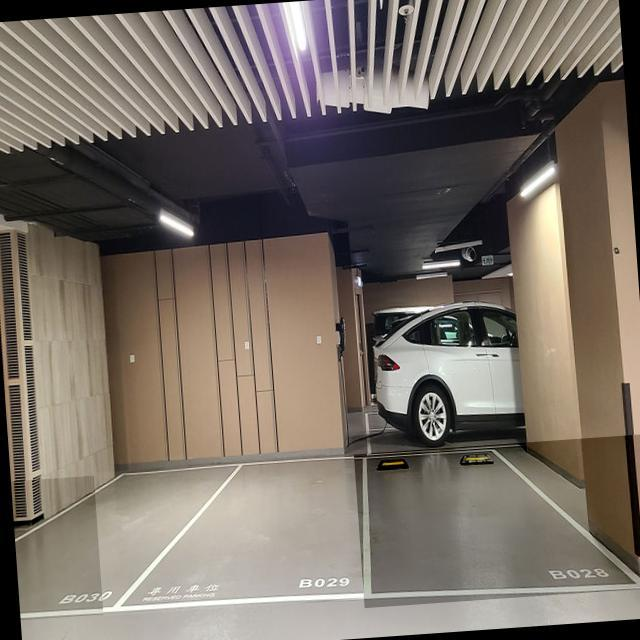empty: (360, 444, 640, 603), (103, 455, 376, 613), (15, 465, 245, 620)
